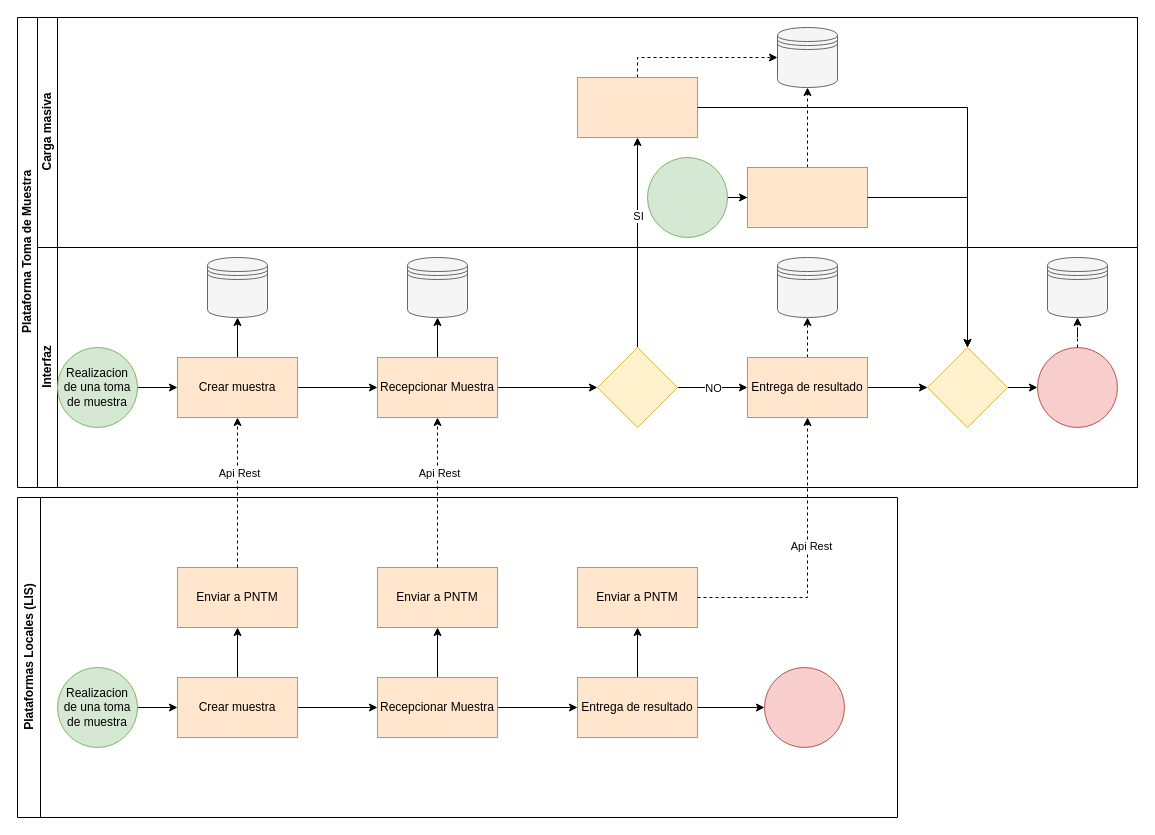
The diagram is 1155 pixels wide and 835 high, and some of its shapes have lost their labels. Here are the shapes that lost their labels. From the top down, the centre of each, then its label:
[637,107]: Carga masiva de resultados
[687,197]: Al fin de la producción
[807,197]: Cargar Muestras y Resultados
[637,387]: Carga masiva?
